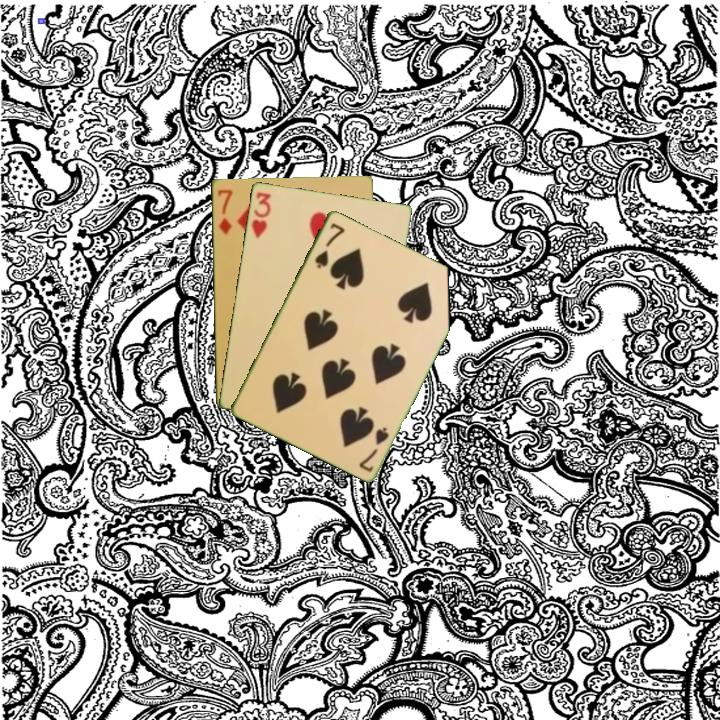3h: (247, 188, 274, 241)
7d: (214, 186, 235, 237)
7s: (355, 423, 392, 475), (311, 219, 347, 271)
